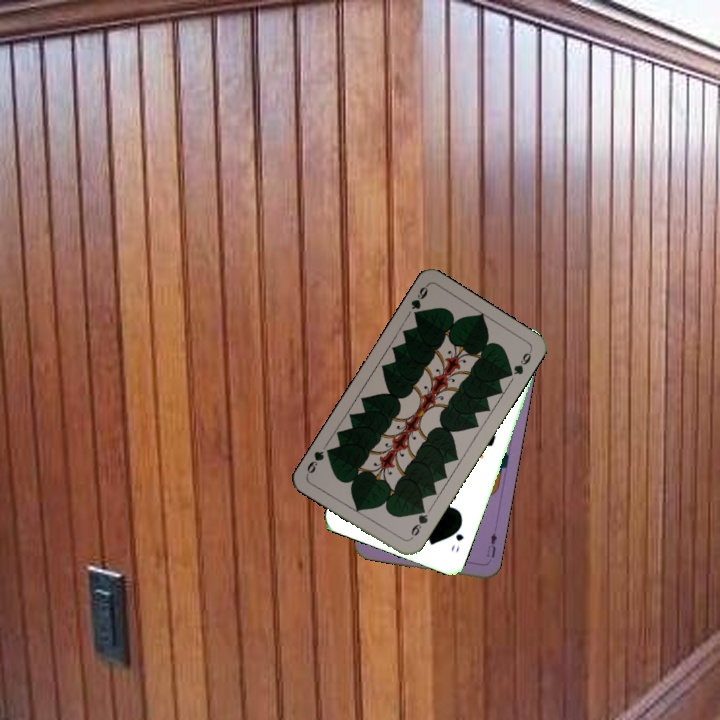EU: (482, 528, 499, 560)
G9: (407, 281, 431, 322), (406, 503, 431, 542)
GO: (447, 519, 466, 554)
